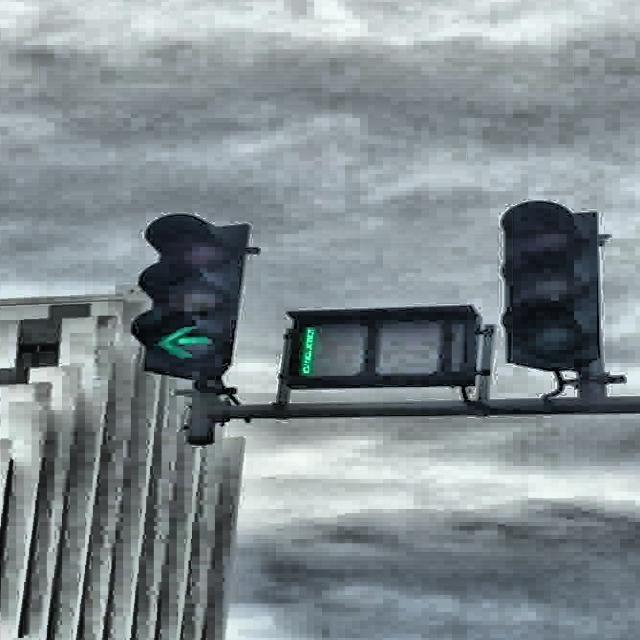green: (132, 213, 244, 381)
